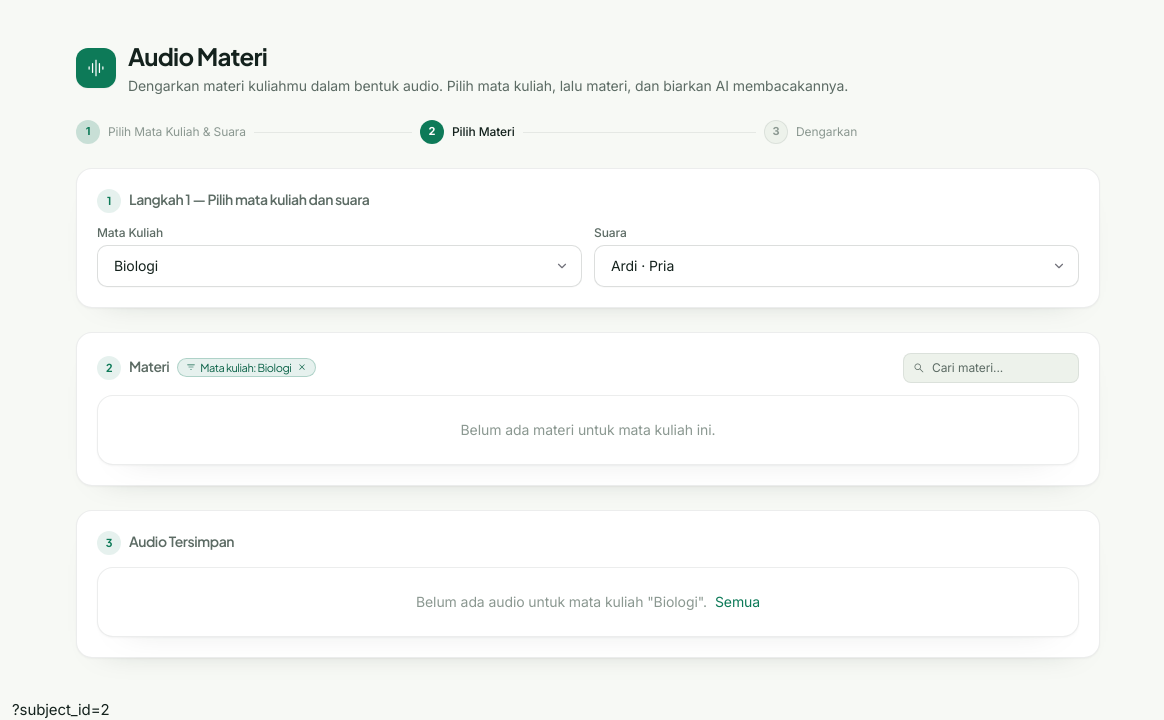
Test case: AudioPage › explains an empty subject filter and clears it
The width and height of the screenshot is (1164, 720).
Expected: the text "Belum ada audio untuk mata kuliah \"Biologi\". Semua" is shown, left=97, top=567, right=1079, bottom=637
Click the button "Semua": point(737, 602) left=715, top=592, right=760, bottom=612
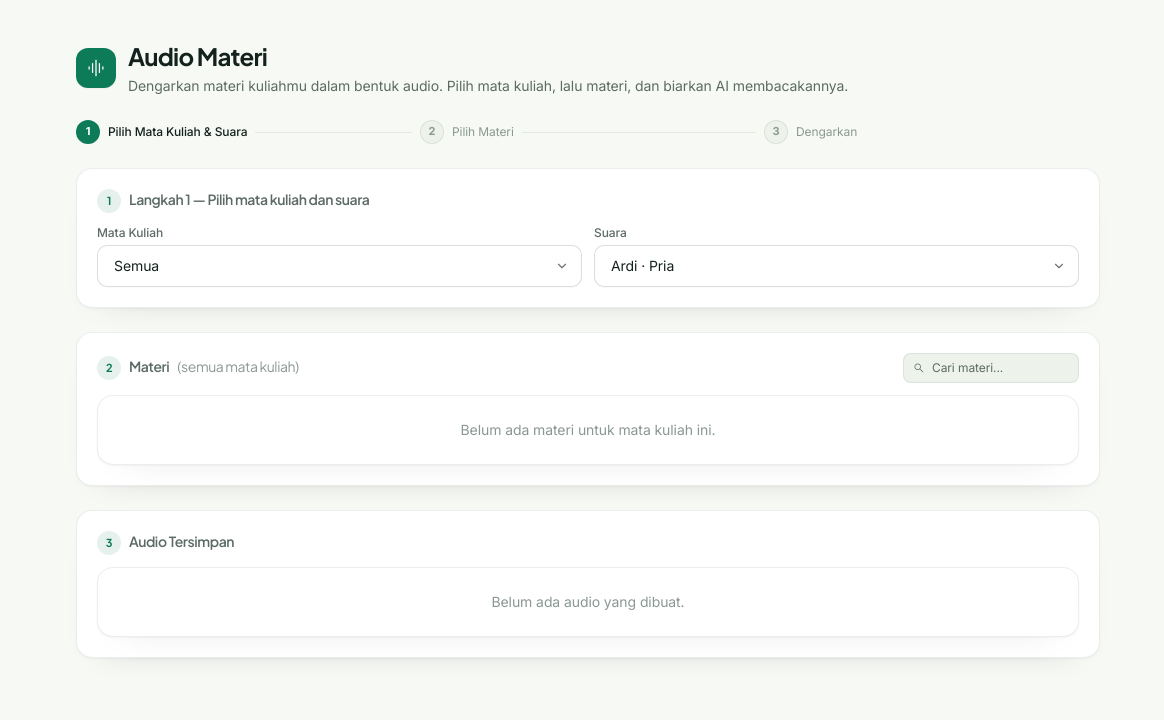
Expected: the text "Belum ada audio yang dibuat." is shown, left=97, top=567, right=1079, bottom=637
